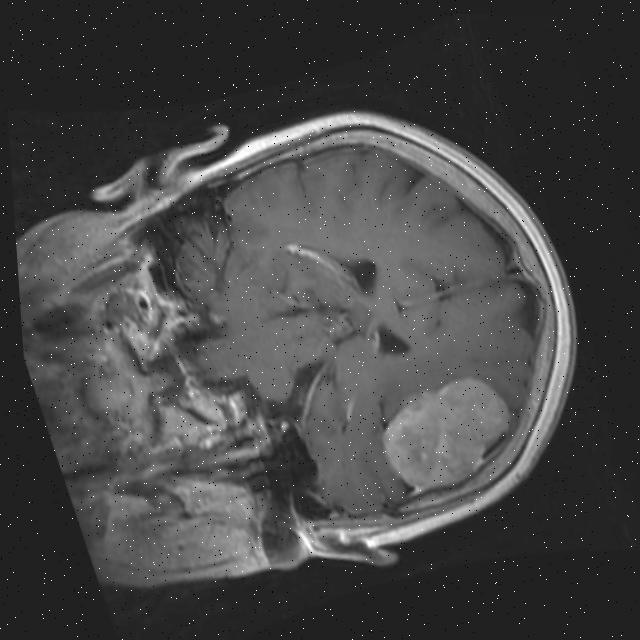Meningioma: (361, 362, 532, 504)
